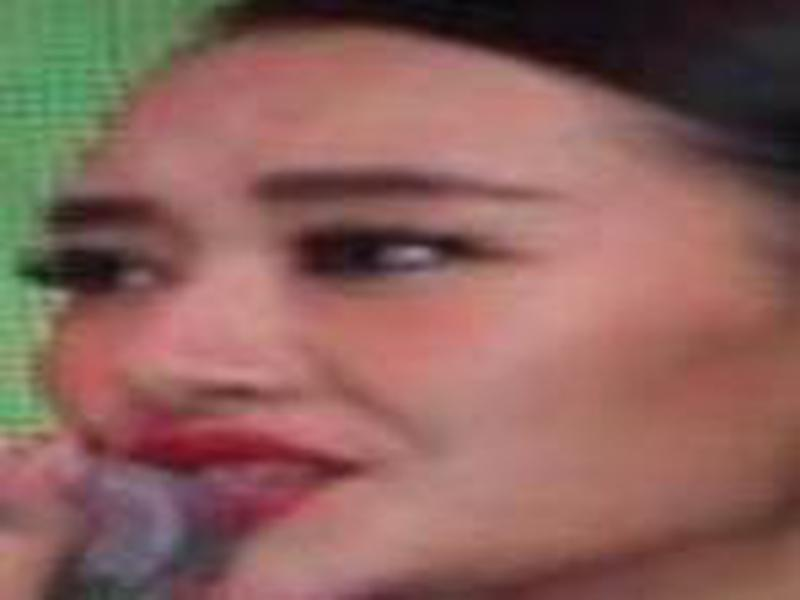without_mask: (33, 29, 795, 591)
